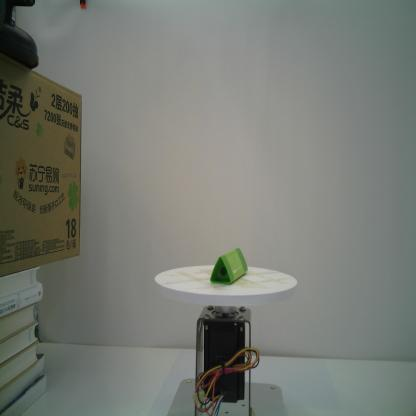Stationery: (210, 247, 248, 284)
